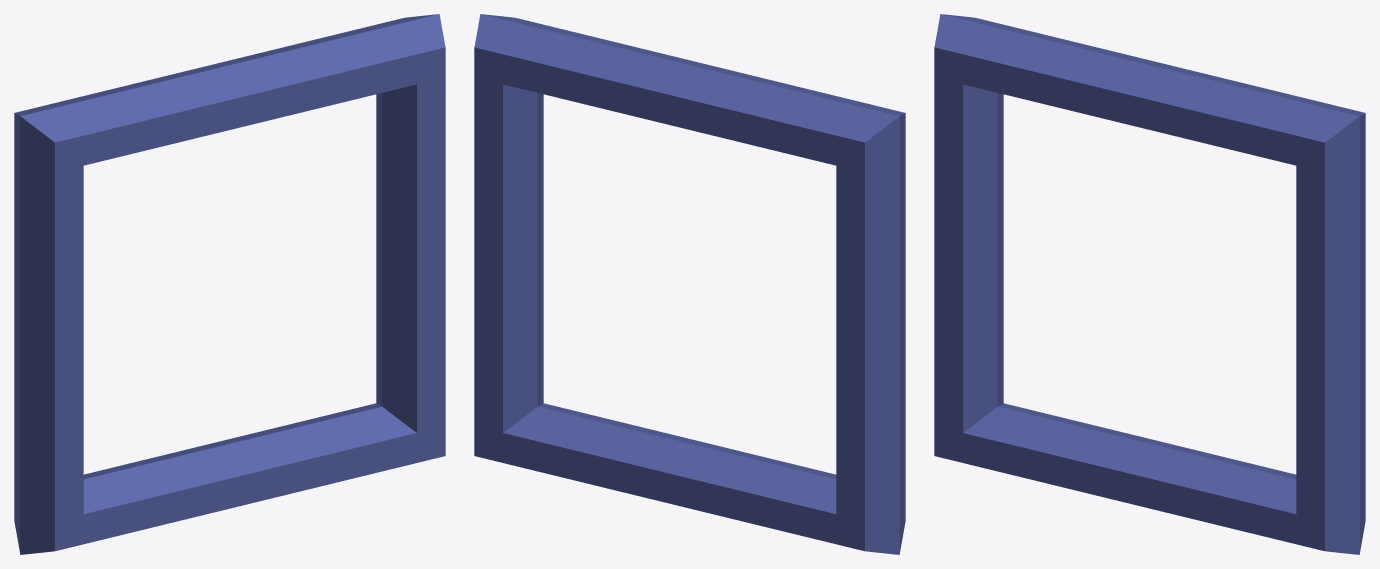
Rendered from hitring.fbx.
The picture shows the model from 3 angles, left to right: view 1: azimuth 30°, elevation 25°; view 2: azimuth 150°, elevation 25°; view 3: azimuth 330°, elevation 25°; orthographic projection.
Parts seen in each view (by area): view 1: hitring; view 2: hitring; view 3: hitring.
Part boxes in pixels (x1=…): hitring: x1=14, y1=14, x2=445, y2=554; hitring: x1=474, y1=14, x2=905, y2=554; hitring: x1=934, y1=14, x2=1365, y2=554.
Bounding box in the file's own units: 10.32 × 10.32 × 1.73.
